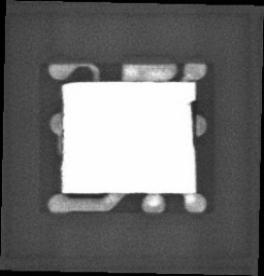DIE_BROKEN: (188, 98, 197, 149)
